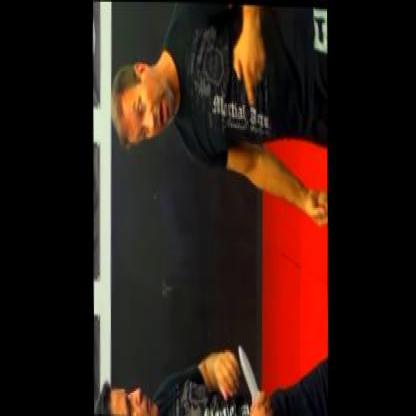knife: (233, 338, 280, 414)
